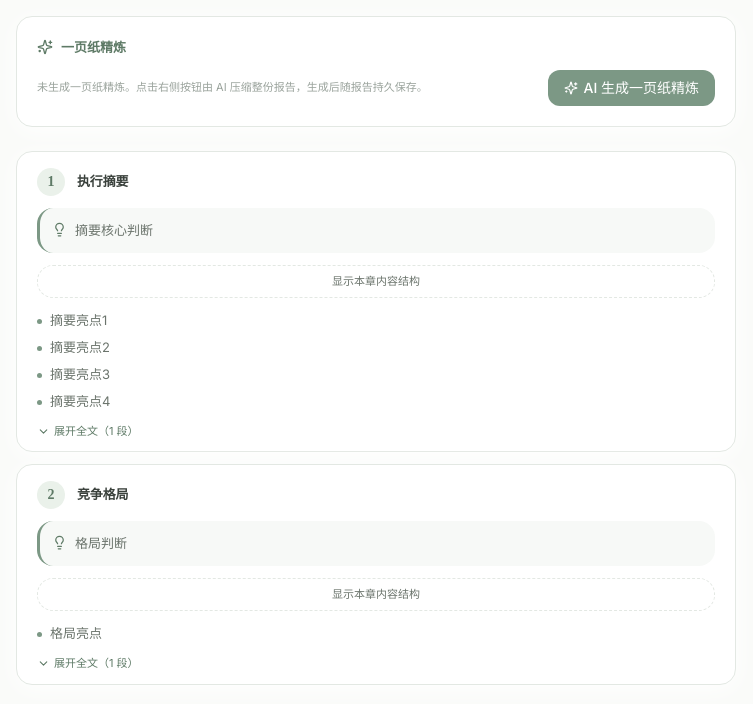
Test case: ReportBriefView 章节简报卡片流 › 空章节被过滤；核心判断+亮点（≤4）渲染；「展开全文」折叠切换
Check: the text "摘要核心判断" is shown, box [75,220,153,241]
Check: the text "摘要亮点1" is shown, box [50,310,107,331]
Step 1. Click the button "展开全文（1 段）" below "摘要亮点4" → (88, 431), box [37,424,139,439]
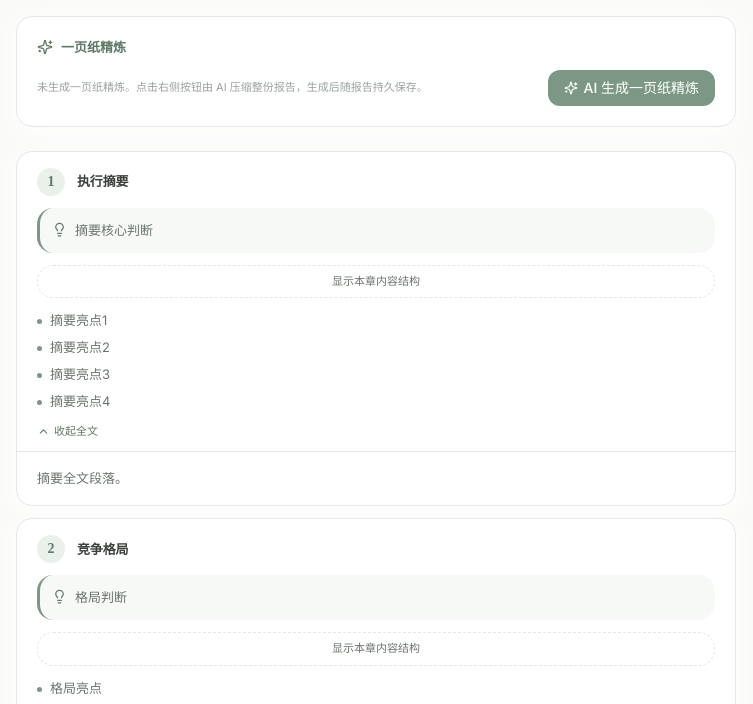
Check: the text "摘要全文段落。" is shown, box [37,470,128,486]
Step 2. Click the button "收起全文" → (68, 431), box [37,424,98,439]
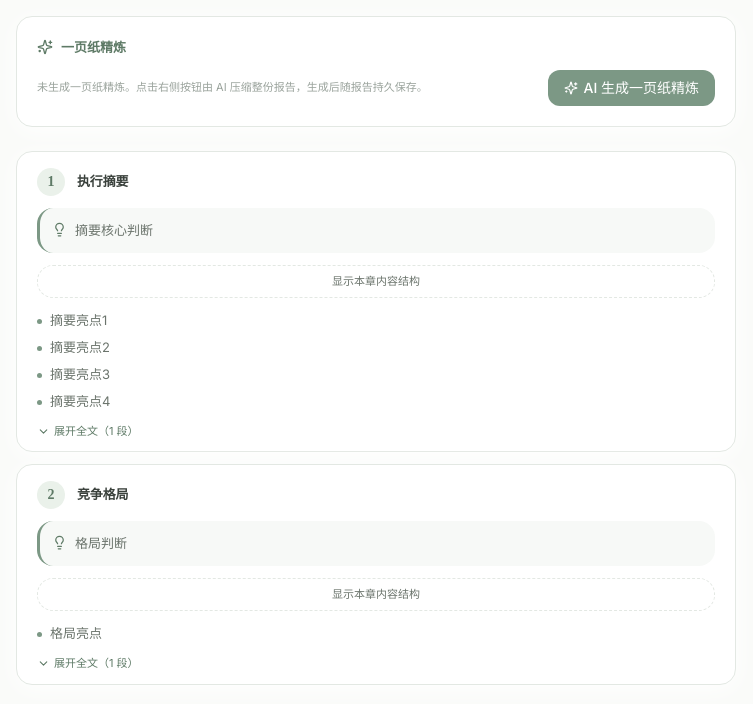
Check: the text "摘要全文段落。" is gone
